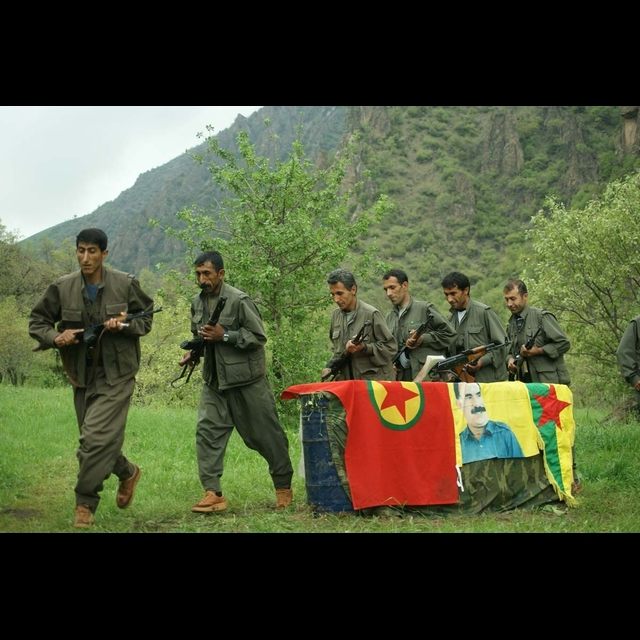AK47: (71, 307, 168, 345), (177, 295, 224, 368), (432, 339, 513, 380)
APO: (455, 382, 499, 433)
PKK: (366, 381, 427, 432)
